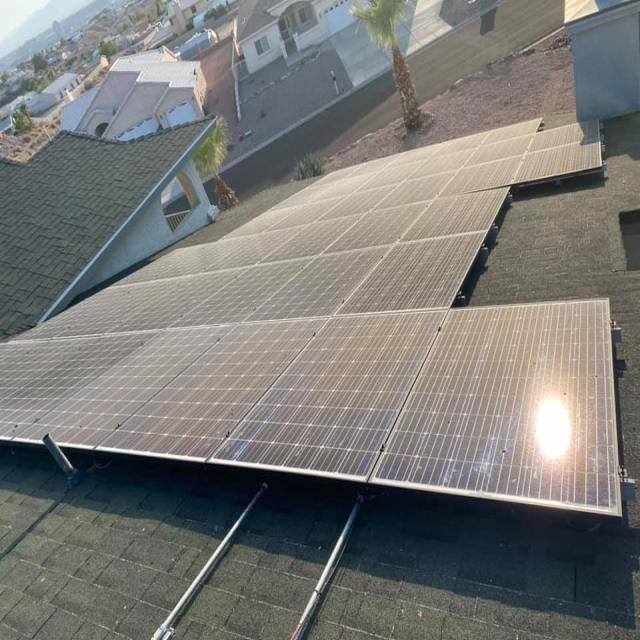dust-solar-panel: (0, 115, 625, 520)
